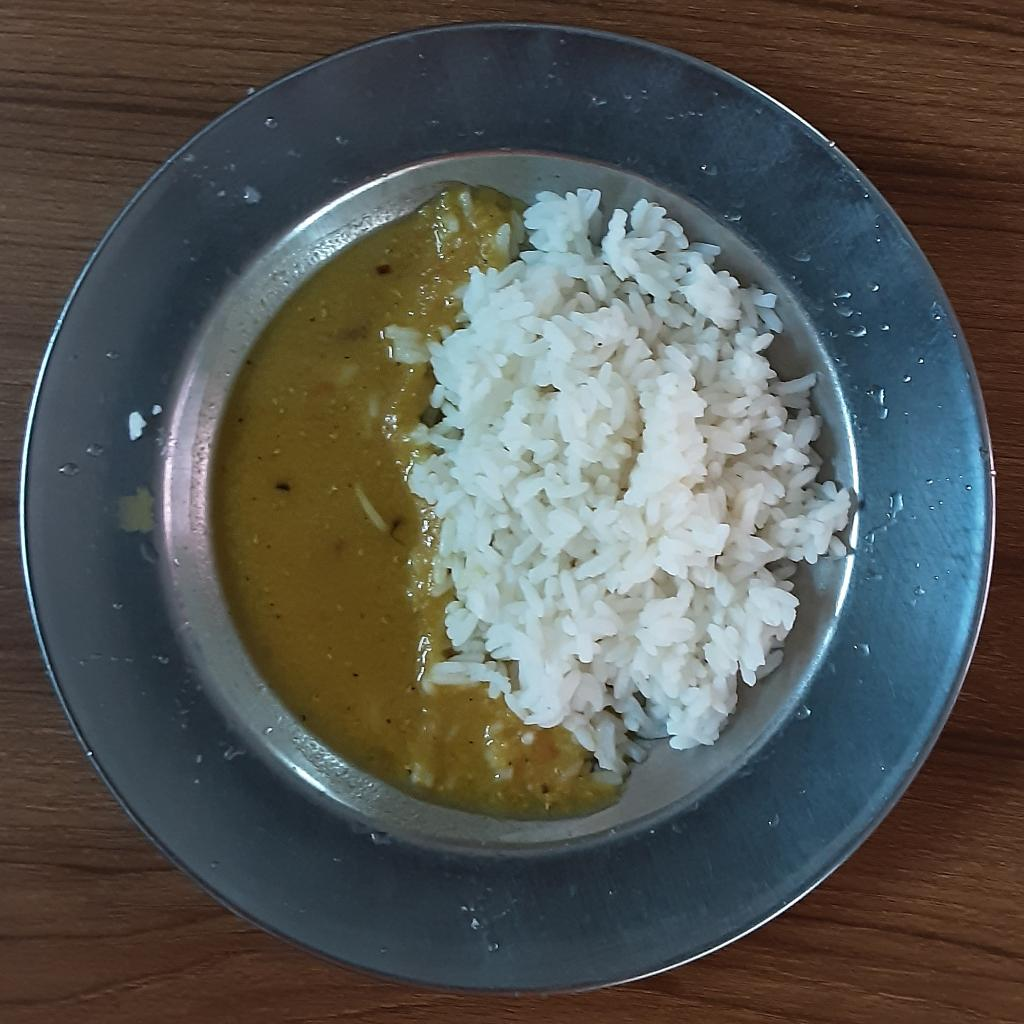daal: (205, 182, 632, 816)
rice: (383, 184, 849, 782)
